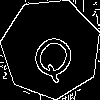Q: (26, 23, 85, 85)
